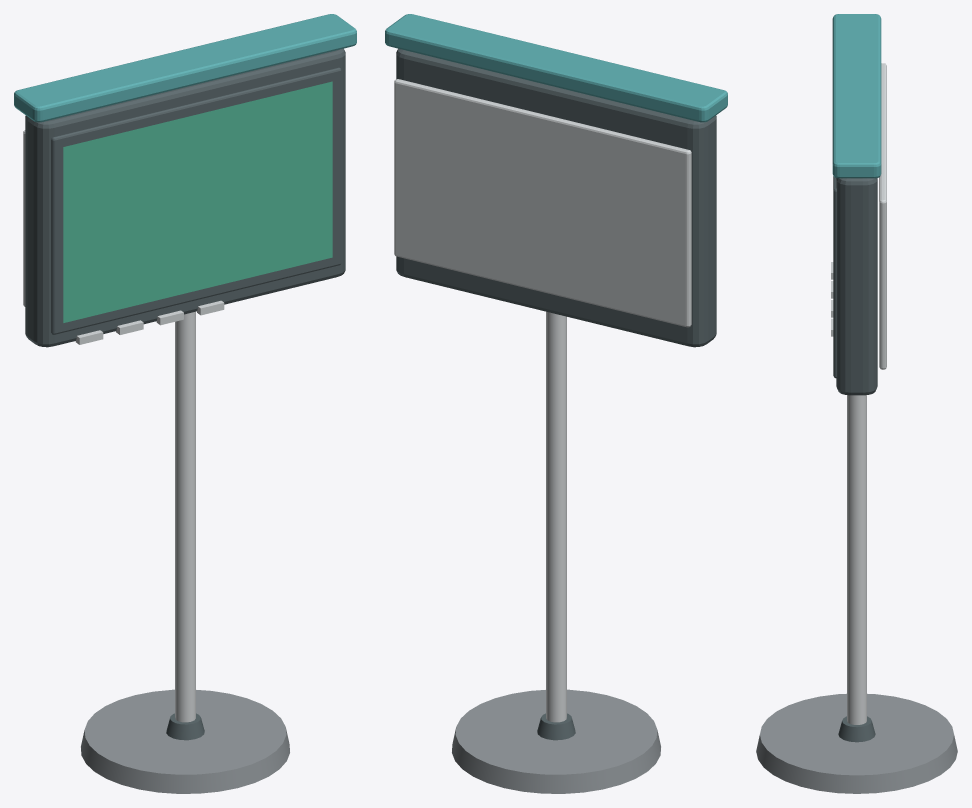
The model's file is monitor.glb.
3 views of the same model, side by side, from view 1: azimuth 30°, elevation 25°; view 2: azimuth 150°, elevation 25°; view 3: azimuth 270°, elevation 25° (orthographic). The views are drawn at different scales.
Visible parts, largest first — view 1: monitor, screen; view 2: monitor; view 3: monitor.
Boxes of the visible parts, x1=… form: monitor: x1=14, y1=14, x2=356, y2=793; screen: x1=63, y1=81, x2=332, y2=322; monitor: x1=385, y1=14, x2=727, y2=793; monitor: x1=756, y1=14, x2=957, y2=793.
Size of the model in its own units: 0.96 by 1.96 by 0.54.
